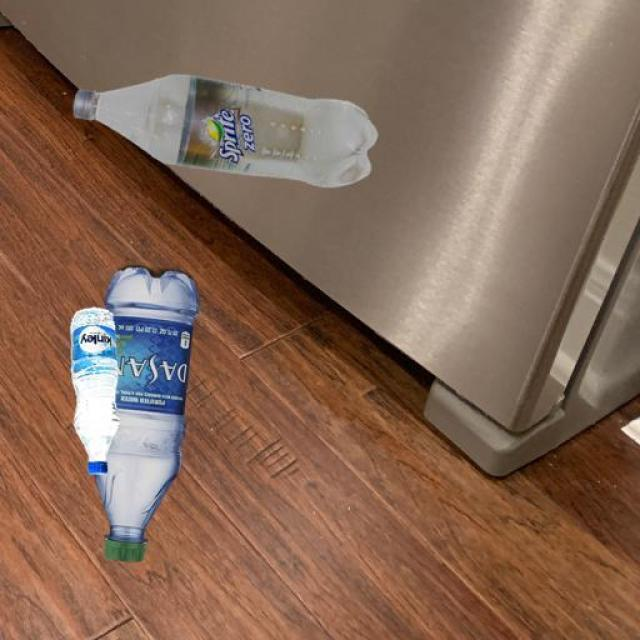bottle: (38, 248, 208, 578), (74, 51, 390, 189), (64, 306, 130, 474)
